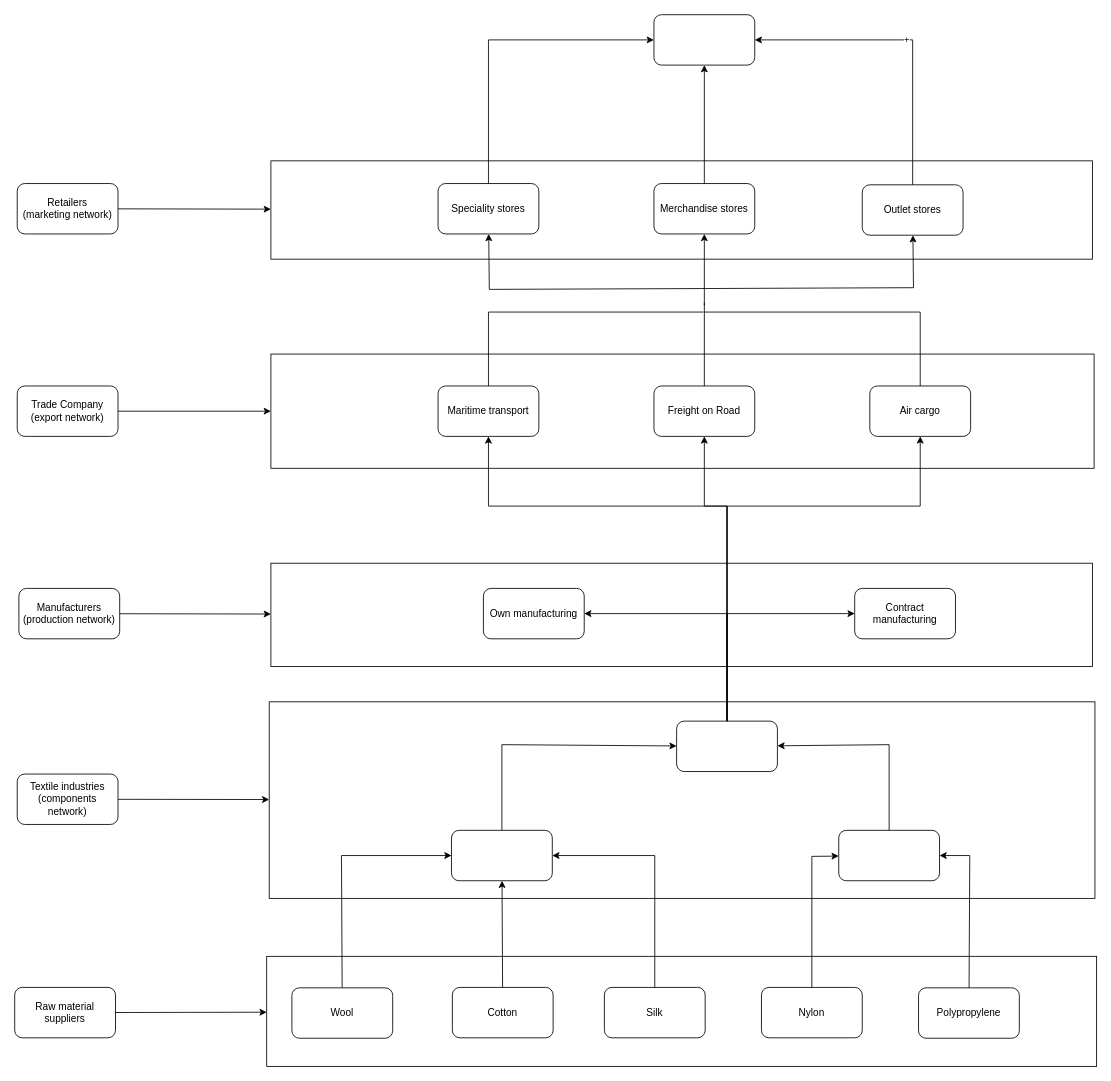
Image size: 1111x1081. Some labels were removed from this diagram. The shapes that lost their labels are listed below. From the top down, each one's centre as x and y in pixels, then its label:
the point at 704,39: Customers
the point at 726,746: Fabric
the point at 501,855: Natural fibres
the point at 889,855: Synthetic fibres
